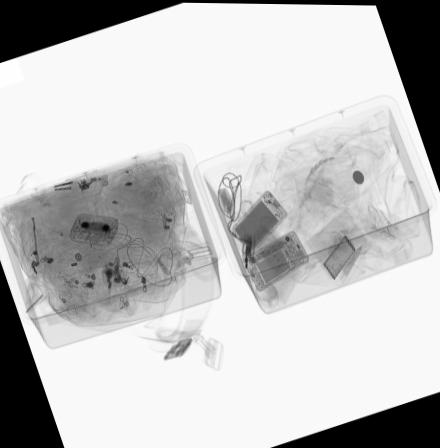Powerbank: (230, 189, 288, 252)
